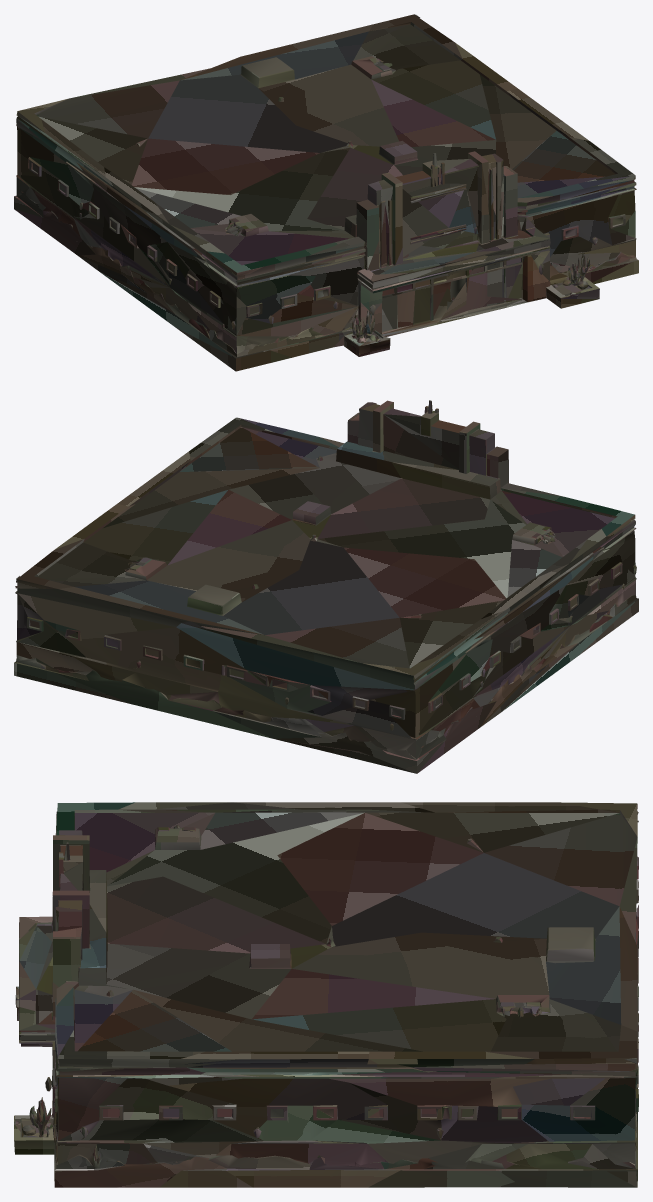
File: arcade.glb
3 views of the same model, one above another, from view 1: azimuth 30°, elevation 25°; view 2: azimuth 150°, elevation 25°; view 3: azimuth 270°, elevation 25° (orthographic). The views are drawn at different scales.
Visible parts, largest first — view 1: Mesh_0; view 2: Mesh_0; view 3: Mesh_0.
Part boxes in pixels (<box>): Mesh_0: <box>14,14,638,371</box>; Mesh_0: <box>14,400,638,773</box>; Mesh_0: <box>14,802,638,1187</box>.
Bounding box in the file's own units: 1.88 × 0.7439 × 1.9.
1 material, 1 textured.
